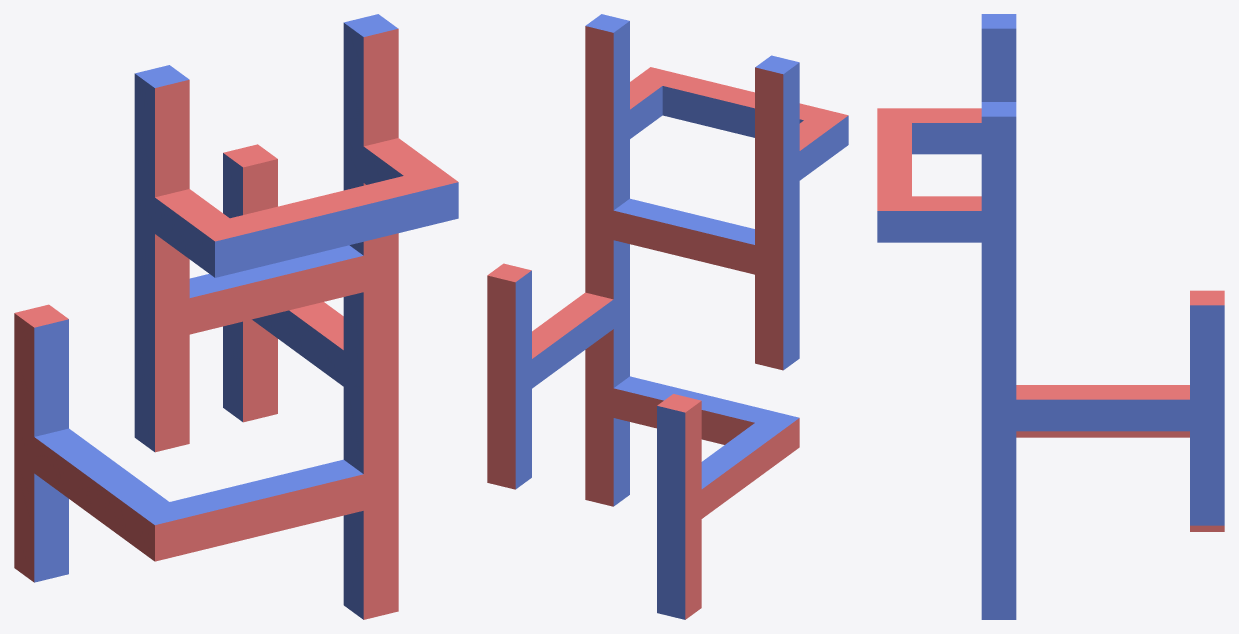
File: teleportation_n3_blockgraph.dae
3 renders of one model, left to right at view 1: azimuth 30°, elevation 25°; view 2: azimuth 150°, elevation 25°; view 3: azimuth 270°, elevation 25°, orthographic. The views are drawn at different scales.
Visible parts, largest first — view 1: ZXO (×16), ZXZ (×17), OXZ (×8), ZXX (×10), OZX (×4), XZO (×4), ZOX (×6), XZX (×7), XOZ (×4), ZZX (×5), XXZ (×3), XZZ (×3); view 2: ZXO (×20), OXZ (×8), ZXZ (×13), ZXX (×12), ZOX (×8), XZO (×4), XZX (×5), XOZ (×4), OZX (×2), XZZ (×3), XXZ, ZZX; view 3: ZXO (×8), ZOX (×8), ZXX (×8), ZXZ (×7), ZZX (×3), OZX (×2), XOZ (×2), XZX.
Part boxes in pixels (box(x1,y1,x2,y2)): ZXO (×16): box(134, 59, 398, 583); ZXZ (×17): box(134, 14, 398, 619); OXZ (×8): box(170, 245, 363, 552); ZXX (×10): box(134, 132, 398, 422); OZX (×4): box(230, 176, 423, 269); XZO (×4): box(14, 350, 68, 545); ZOX (×6): box(155, 138, 438, 386); XZX (×7): box(14, 193, 354, 582); XOZ (×4): box(34, 428, 168, 546); ZZX (×5): box(195, 167, 458, 277); XXZ (×3): box(134, 502, 189, 561); XZZ (×3): box(14, 422, 128, 517); ZXO (×20): box(487, 51, 799, 476); OXZ (×8): box(613, 198, 770, 444); ZXZ (×13): box(585, 21, 799, 506); ZXX (×12): box(487, 110, 799, 489); ZOX (×8): box(532, 79, 832, 388); XZO (×4): box(657, 430, 701, 590); XZX (×5): box(657, 99, 747, 619); XOZ (×4): box(701, 423, 783, 518); OZX (×2): box(662, 74, 734, 128); XZZ (×3): box(657, 454, 750, 530); XXZ: box(783, 418, 799, 458); ZZX: box(832, 115, 848, 156); ZXO (×8): box(981, 60, 1224, 588); ZOX (×8): box(912, 108, 1189, 431); ZXX (×8): box(981, 211, 1224, 525); ZXZ (×7): box(981, 14, 1016, 619); ZZX (×3): box(877, 108, 911, 242); OZX (×2): box(877, 123, 911, 196); XOZ (×2): box(1016, 431, 1189, 437); XZX: box(877, 152, 911, 166).
Size of the model in its own units: 7 by 10 by 16.
